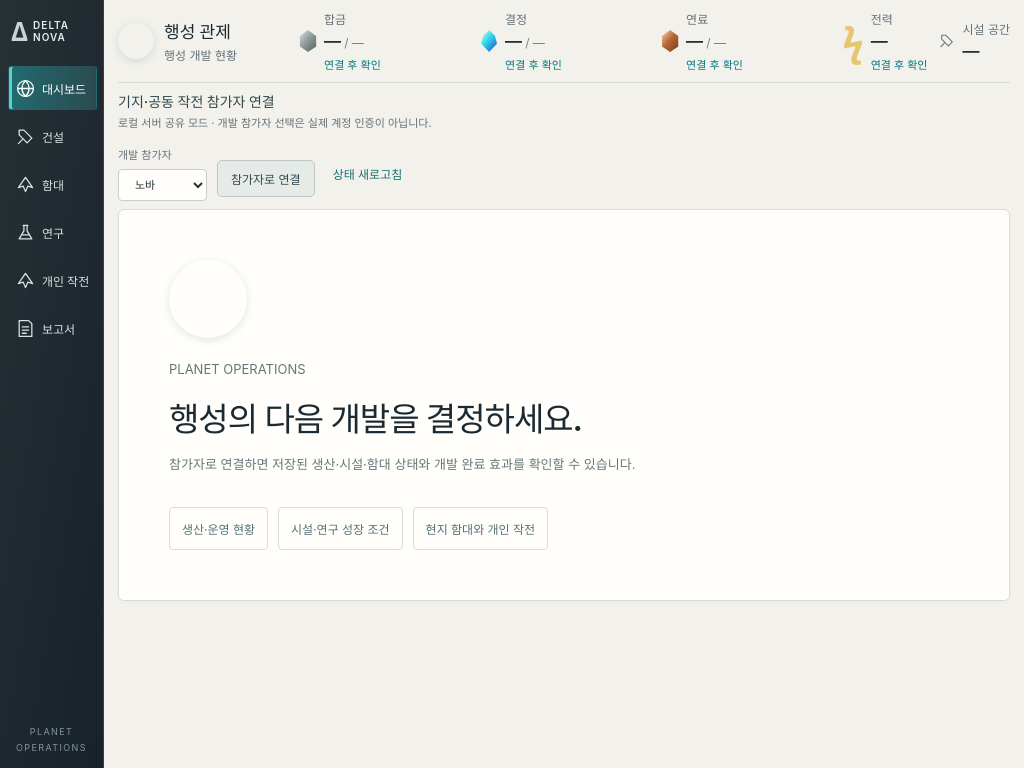
Test case: focuses the new sortie result and follows the report's research action
The image size is (1024, 768).
Click the button "참가자로 연결" at (266, 178), box 217,160 -> 315,197
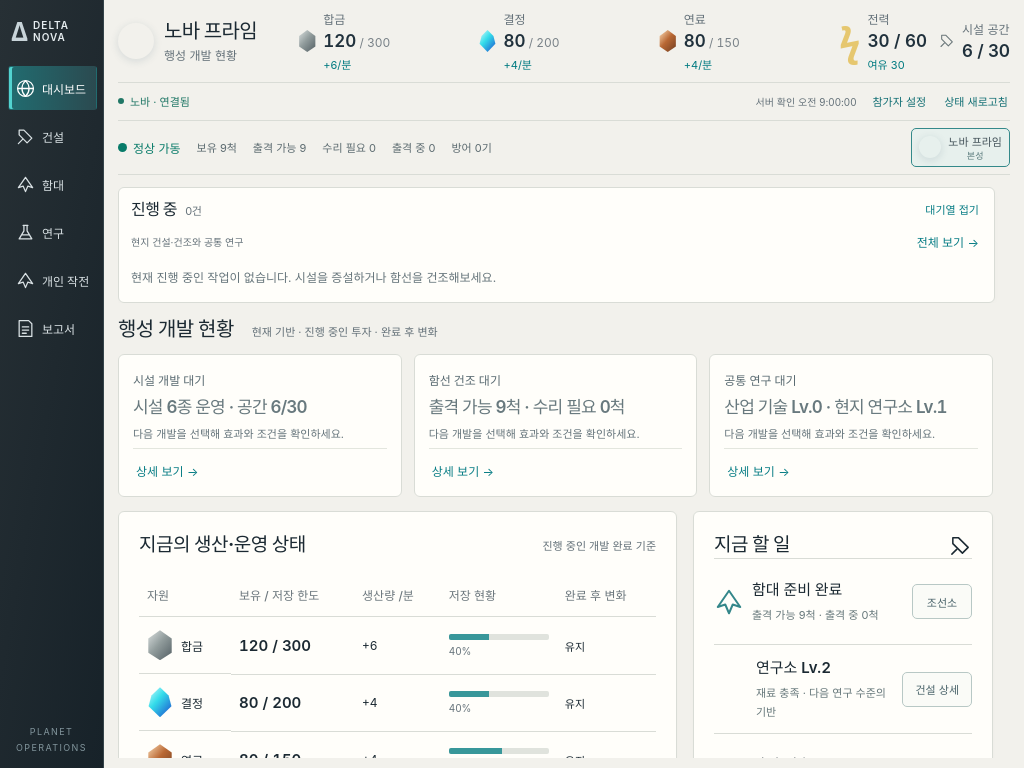
Expected: the heading "노바 프라임" is shown, 164,19 -> 257,43
Click the button "개인 작전" at (53, 280), box 8,258 -> 97,302
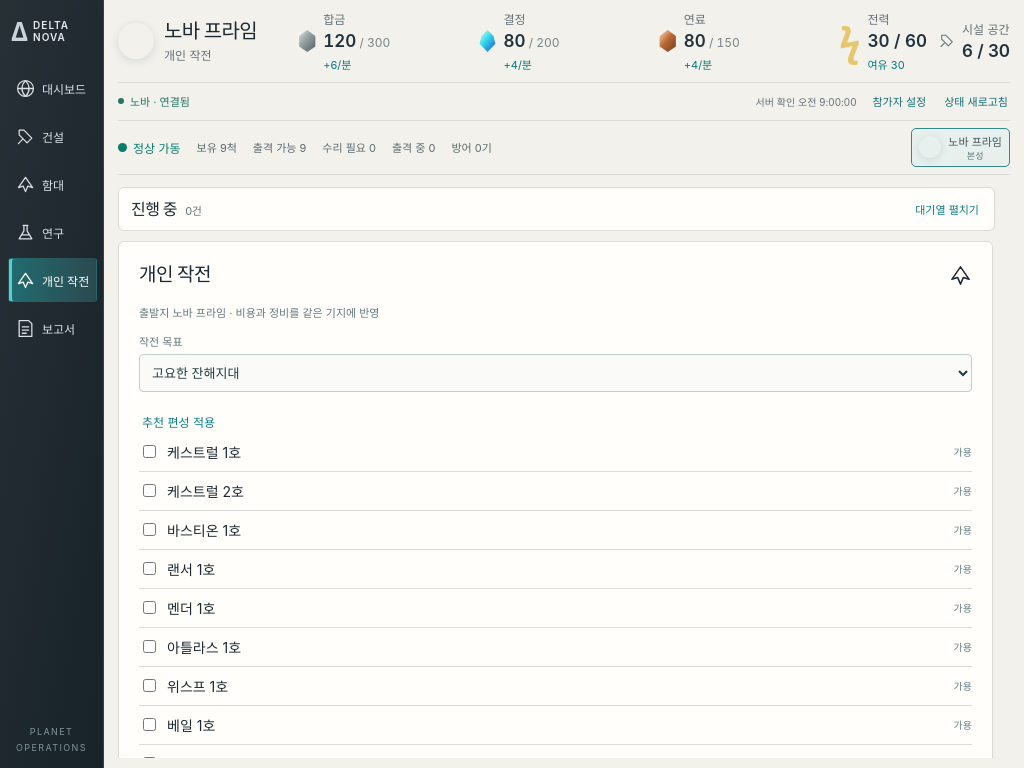
Click the button "추천 편성 적용" at (178, 421), box 139,410 -> 218,433
(page scrolled)
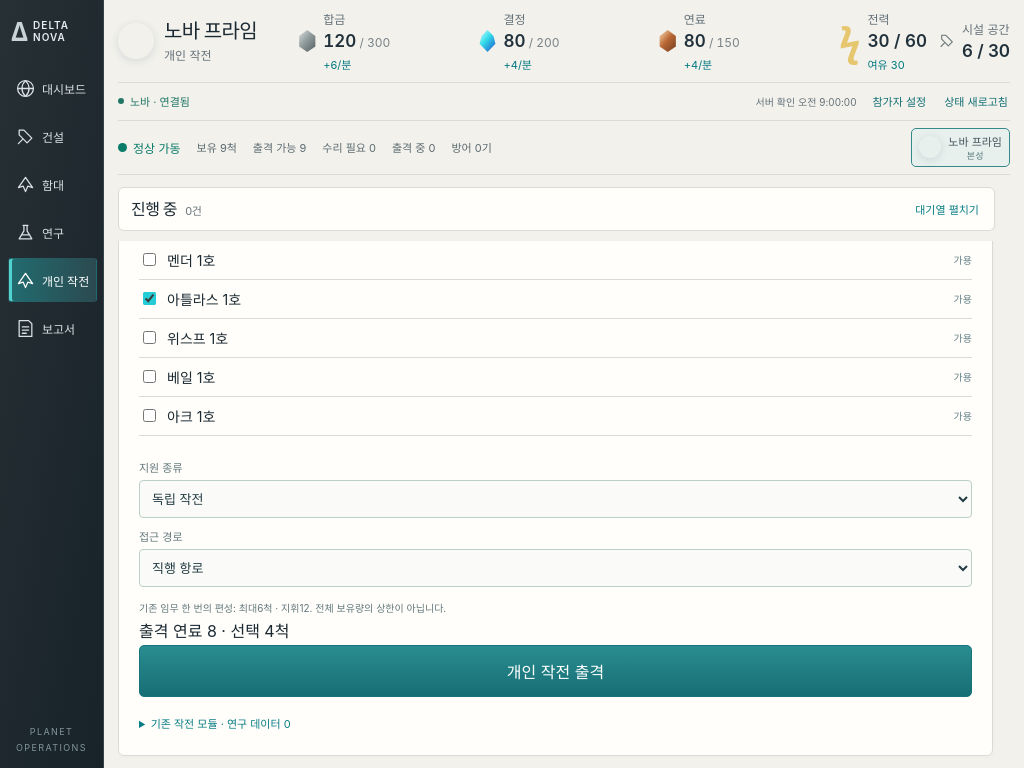
Click the button "개인 작전 출격" at (556, 671), box 139,645 -> 972,697
(page scrolled)
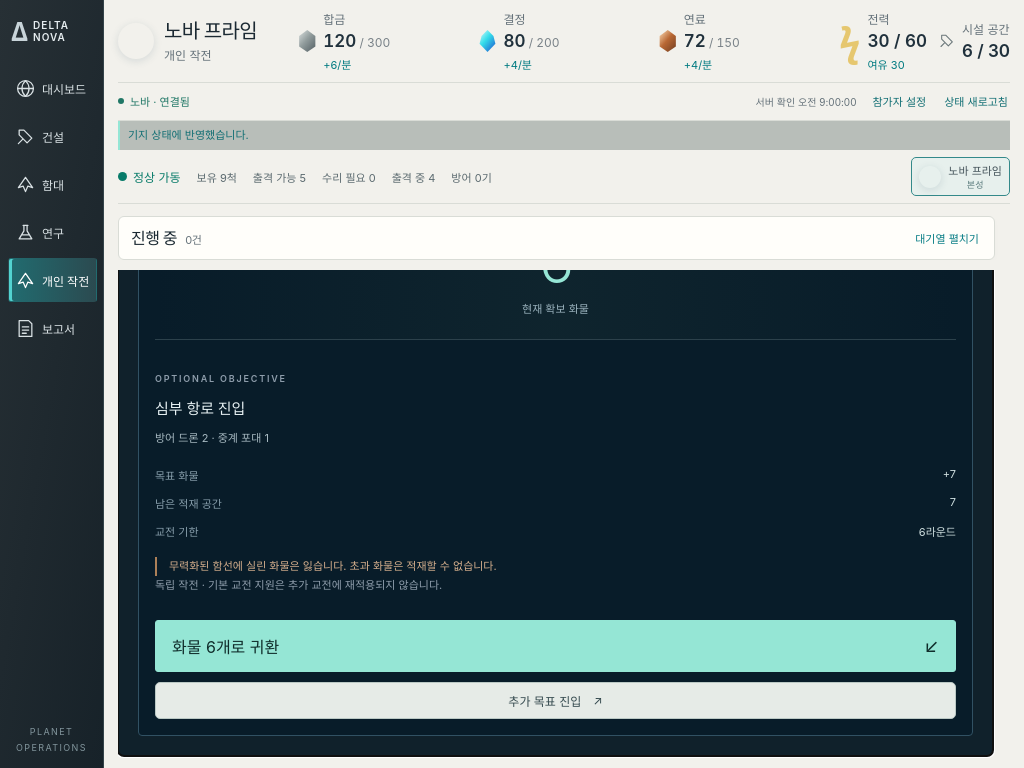
Click the button "화물 6개로 귀환 ↙" at (189, 647), box 155,620 -> 956,672
(page scrolled)
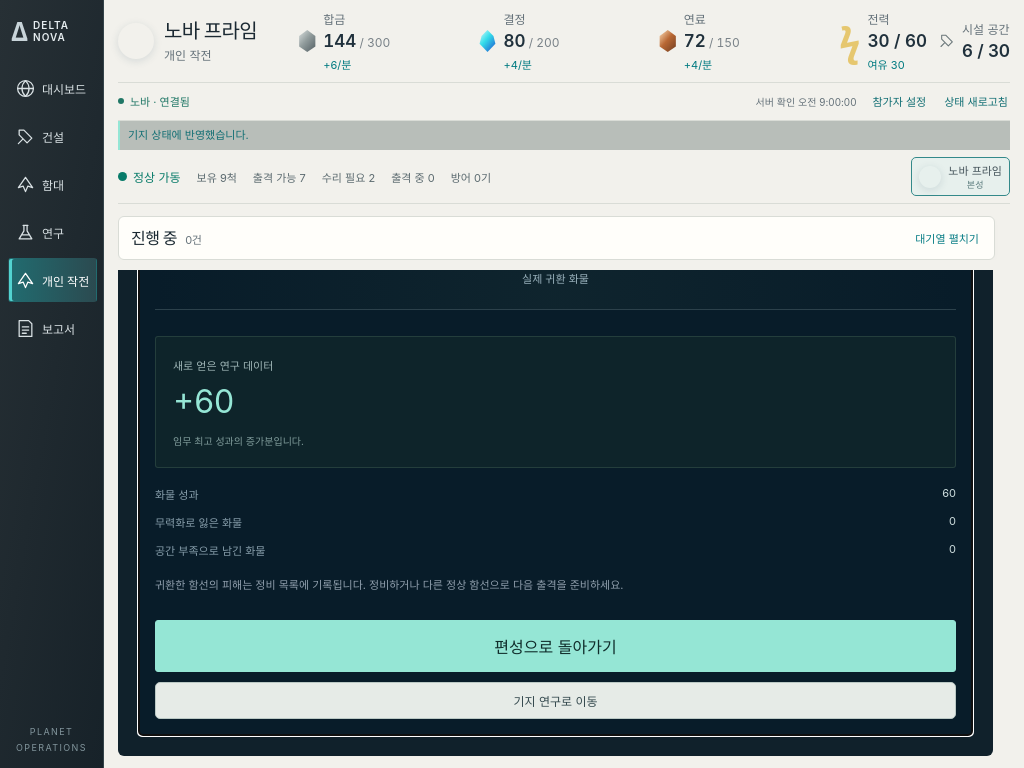
Click the button "기지 연구로 이동" at (556, 700), box 155,682 -> 956,719
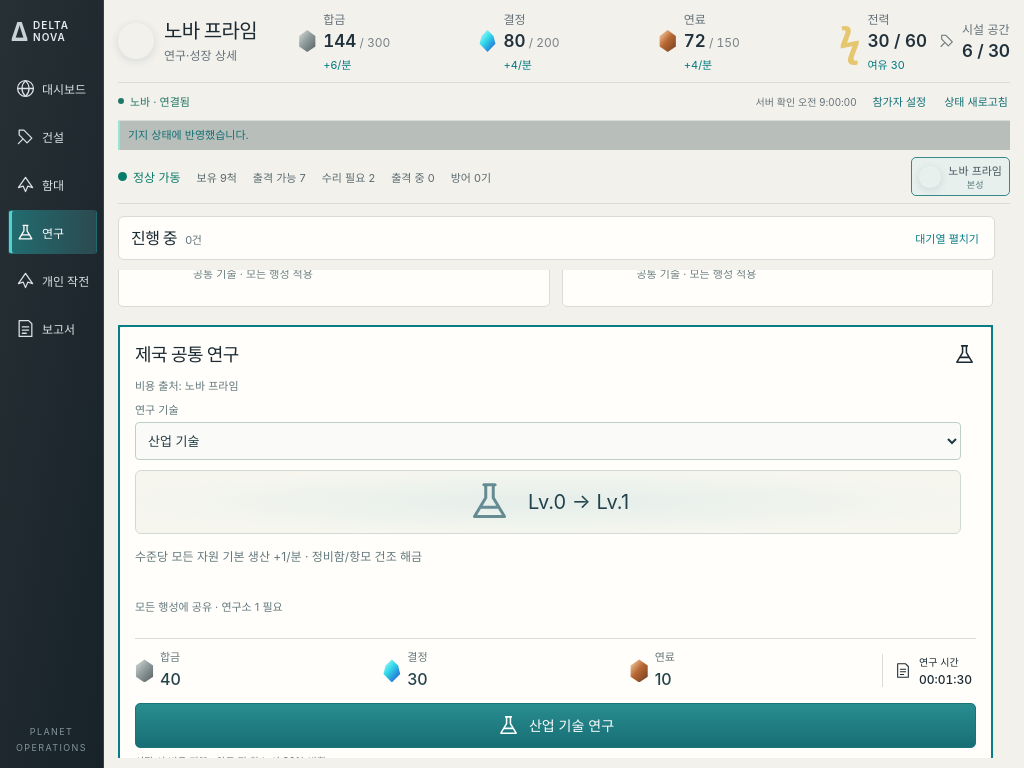
Expected: the dropdown labelled "연구 기술" is shown, 135,422 -> 961,460
